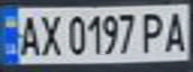0: (63, 11, 87, 55)
1: (84, 11, 103, 55)
7: (115, 10, 139, 54)
9: (100, 10, 121, 55)
A: (160, 7, 193, 54), (12, 11, 45, 57)
P: (136, 9, 169, 54)
X: (36, 10, 63, 57)
